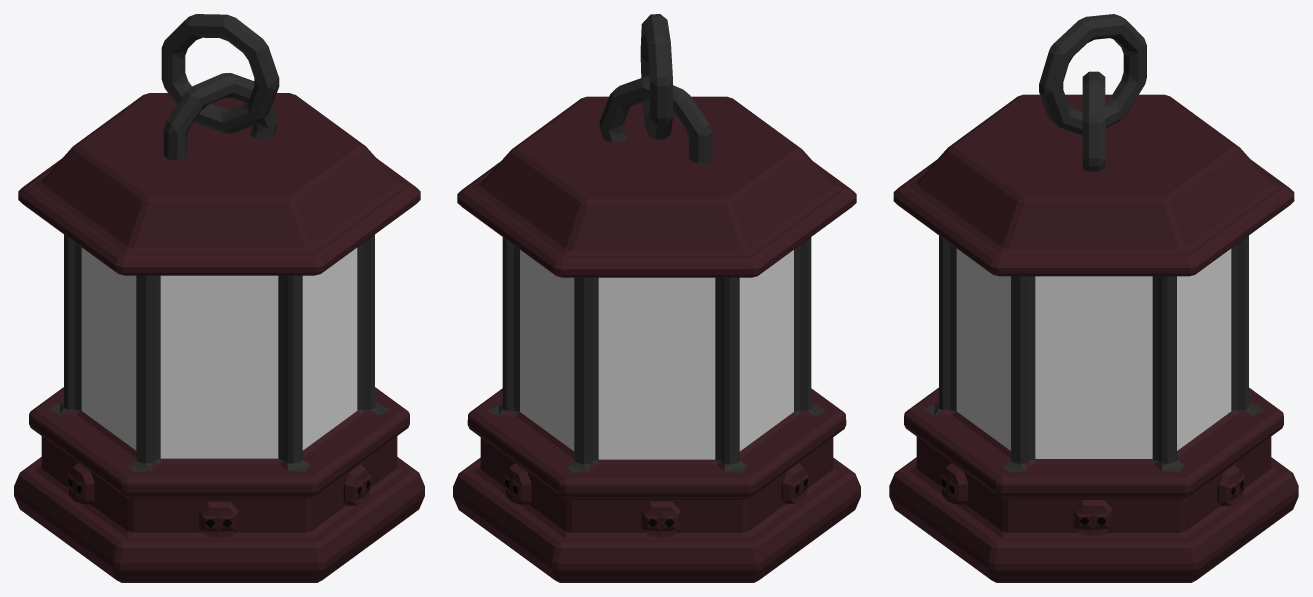
File: Lantern.fbx
3 renders of one model, left to right at view 1: azimuth 30°, elevation 25°; view 2: azimuth 150°, elevation 25°; view 3: azimuth 270°, elevation 25°, orthographic.
Parts seen in each view (by area): view 1: Lantern, Lantern_Rings, Lantern_Skull; view 2: Lantern, Lantern_Rings, Lantern_Skull; view 3: Lantern, Lantern_Rings, Lantern_Skull.
Part boxes in pixels (<box>): Lantern: <box>14,93,424,582</box>; Lantern_Rings: <box>161,14,279,160</box>; Lantern_Skull: <box>67,463,371,538</box>; Lantern: <box>453,96,860,582</box>; Lantern_Rings: <box>599,14,712,163</box>; Lantern_Skull: <box>504,463,808,537</box>; Lantern: <box>889,94,1298,582</box>; Lantern_Rings: <box>1039,14,1146,171</box>; Lantern_Skull: <box>940,463,1245,536</box>.
Bounding box in the file's own units: 38.37 × 58.46 × 43.86.
